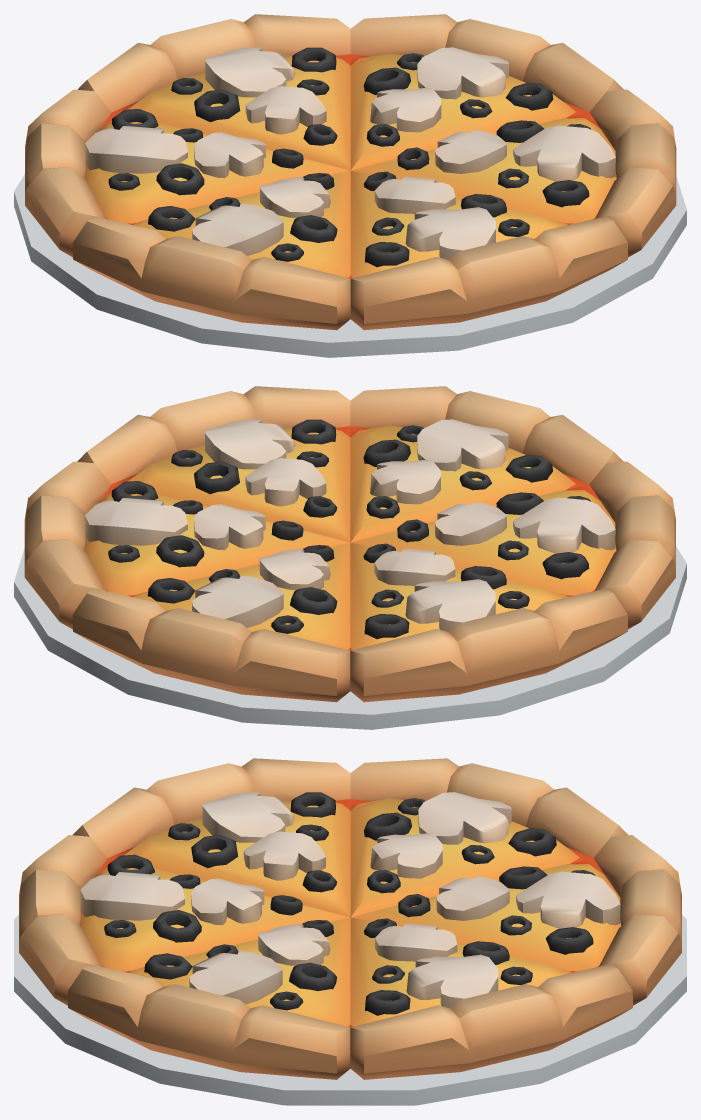
File: food_pizza_mushroom_plated_slices.glb
3 renders of one model, top to bottom at view 1: azimuth 30°, elevation 25°; view 2: azimuth 150°, elevation 25°; view 3: azimuth 270°, elevation 25°, orthographic.
Visible parts, largest first — view 1: food_pizza_mushroom_plated_slices.004, food_pizza_mushroom_plated_slices.005, food_pizza_mushroom_plated_slices.003, food_pizza_mushroom_plated_slices.001, food_pizza_mushroom_plated_slices.006, food_pizza_mushroom_plated_slices.002, food_pizza_mushroom_plated_slices; view 2: food_pizza_mushroom_plated_slices.006, food_pizza_mushroom_plated_slices.003, food_pizza_mushroom_plated_slices.002, food_pizza_mushroom_plated_slices.004, food_pizza_mushroom_plated_slices.001, food_pizza_mushroom_plated_slices.005, food_pizza_mushroom_plated_slices; view 3: food_pizza_mushroom_plated_slices.001, food_pizza_mushroom_plated_slices.002, food_pizza_mushroom_plated_slices.005, food_pizza_mushroom_plated_slices.006, food_pizza_mushroom_plated_slices.004, food_pizza_mushroom_plated_slices.003, food_pizza_mushroom_plated_slices.
Part boxes in pixels (x1,y1,x2,y2): food_pizza_mushroom_plated_slices.004: [350, 170, 627, 330]; food_pizza_mushroom_plated_slices.005: [72, 170, 350, 330]; food_pizza_mushroom_plated_slices.003: [77, 14, 350, 170]; food_pizza_mushroom_plated_slices.001: [350, 14, 623, 170]; food_pizza_mushroom_plated_slices.006: [25, 89, 349, 257]; food_pizza_mushroom_plated_slices.002: [351, 89, 676, 257]; food_pizza_mushroom_plated_slices: [14, 174, 686, 357]; food_pizza_mushroom_plated_slices.006: [350, 542, 627, 702]; food_pizza_mushroom_plated_slices.003: [72, 542, 350, 702]; food_pizza_mushroom_plated_slices.002: [77, 386, 350, 542]; food_pizza_mushroom_plated_slices.004: [350, 386, 623, 542]; food_pizza_mushroom_plated_slices.001: [24, 461, 349, 629]; food_pizza_mushroom_plated_slices.005: [351, 461, 675, 629]; food_pizza_mushroom_plated_slices: [14, 546, 686, 729]; food_pizza_mushroom_plated_slices.001: [350, 917, 632, 1079]; food_pizza_mushroom_plated_slices.002: [68, 917, 350, 1079]; food_pizza_mushroom_plated_slices.005: [72, 758, 350, 917]; food_pizza_mushroom_plated_slices.006: [350, 758, 628, 917]; food_pizza_mushroom_plated_slices.004: [19, 835, 349, 1005]; food_pizza_mushroom_plated_slices.003: [351, 835, 681, 1005]; food_pizza_mushroom_plated_slices: [14, 915, 686, 1105].
Size of the model in its own units: 2 by 0.3 by 2.
1 material, 1 textured.
